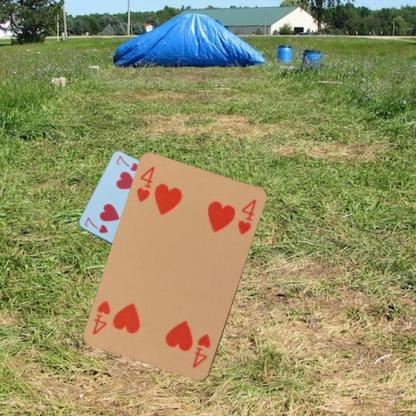4h: (134, 164, 156, 203), (190, 332, 212, 369)
7h: (82, 215, 110, 235)
